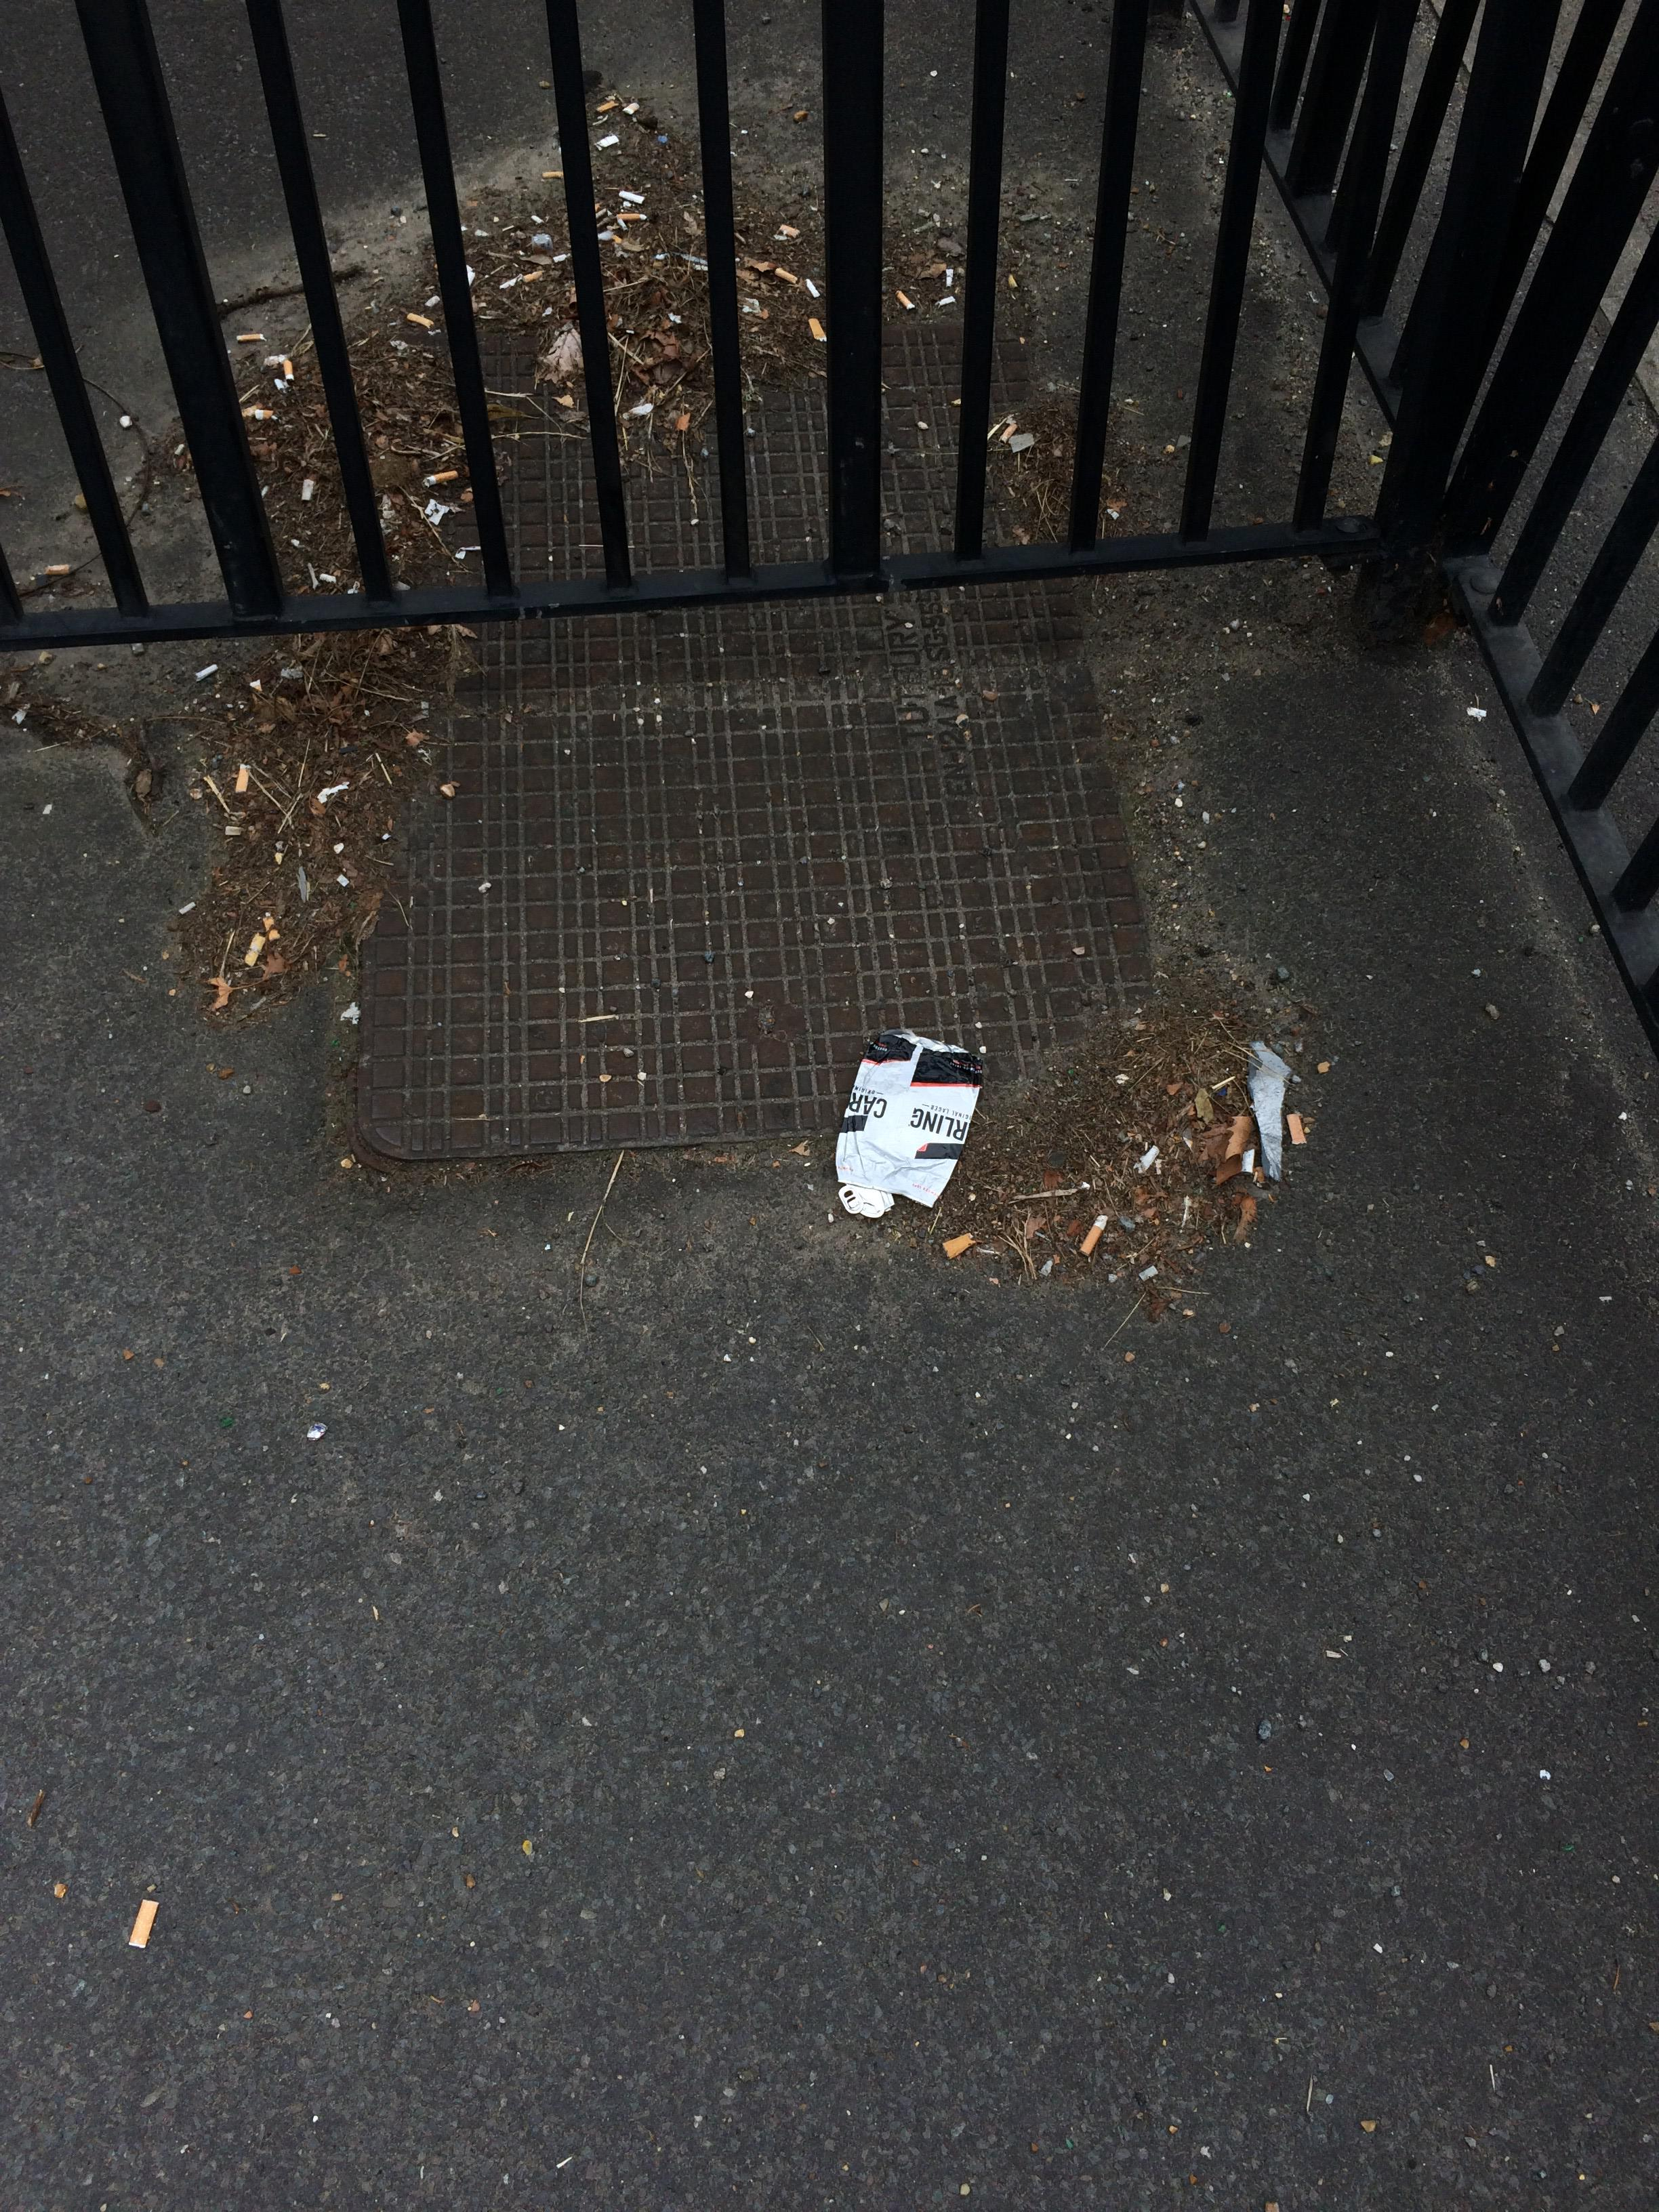Trash: (842, 1001, 981, 1230)
